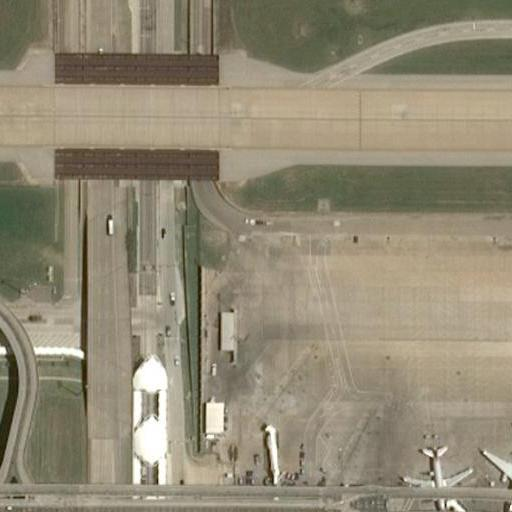Aircraft: (392, 432, 471, 512), (471, 407, 512, 507)
